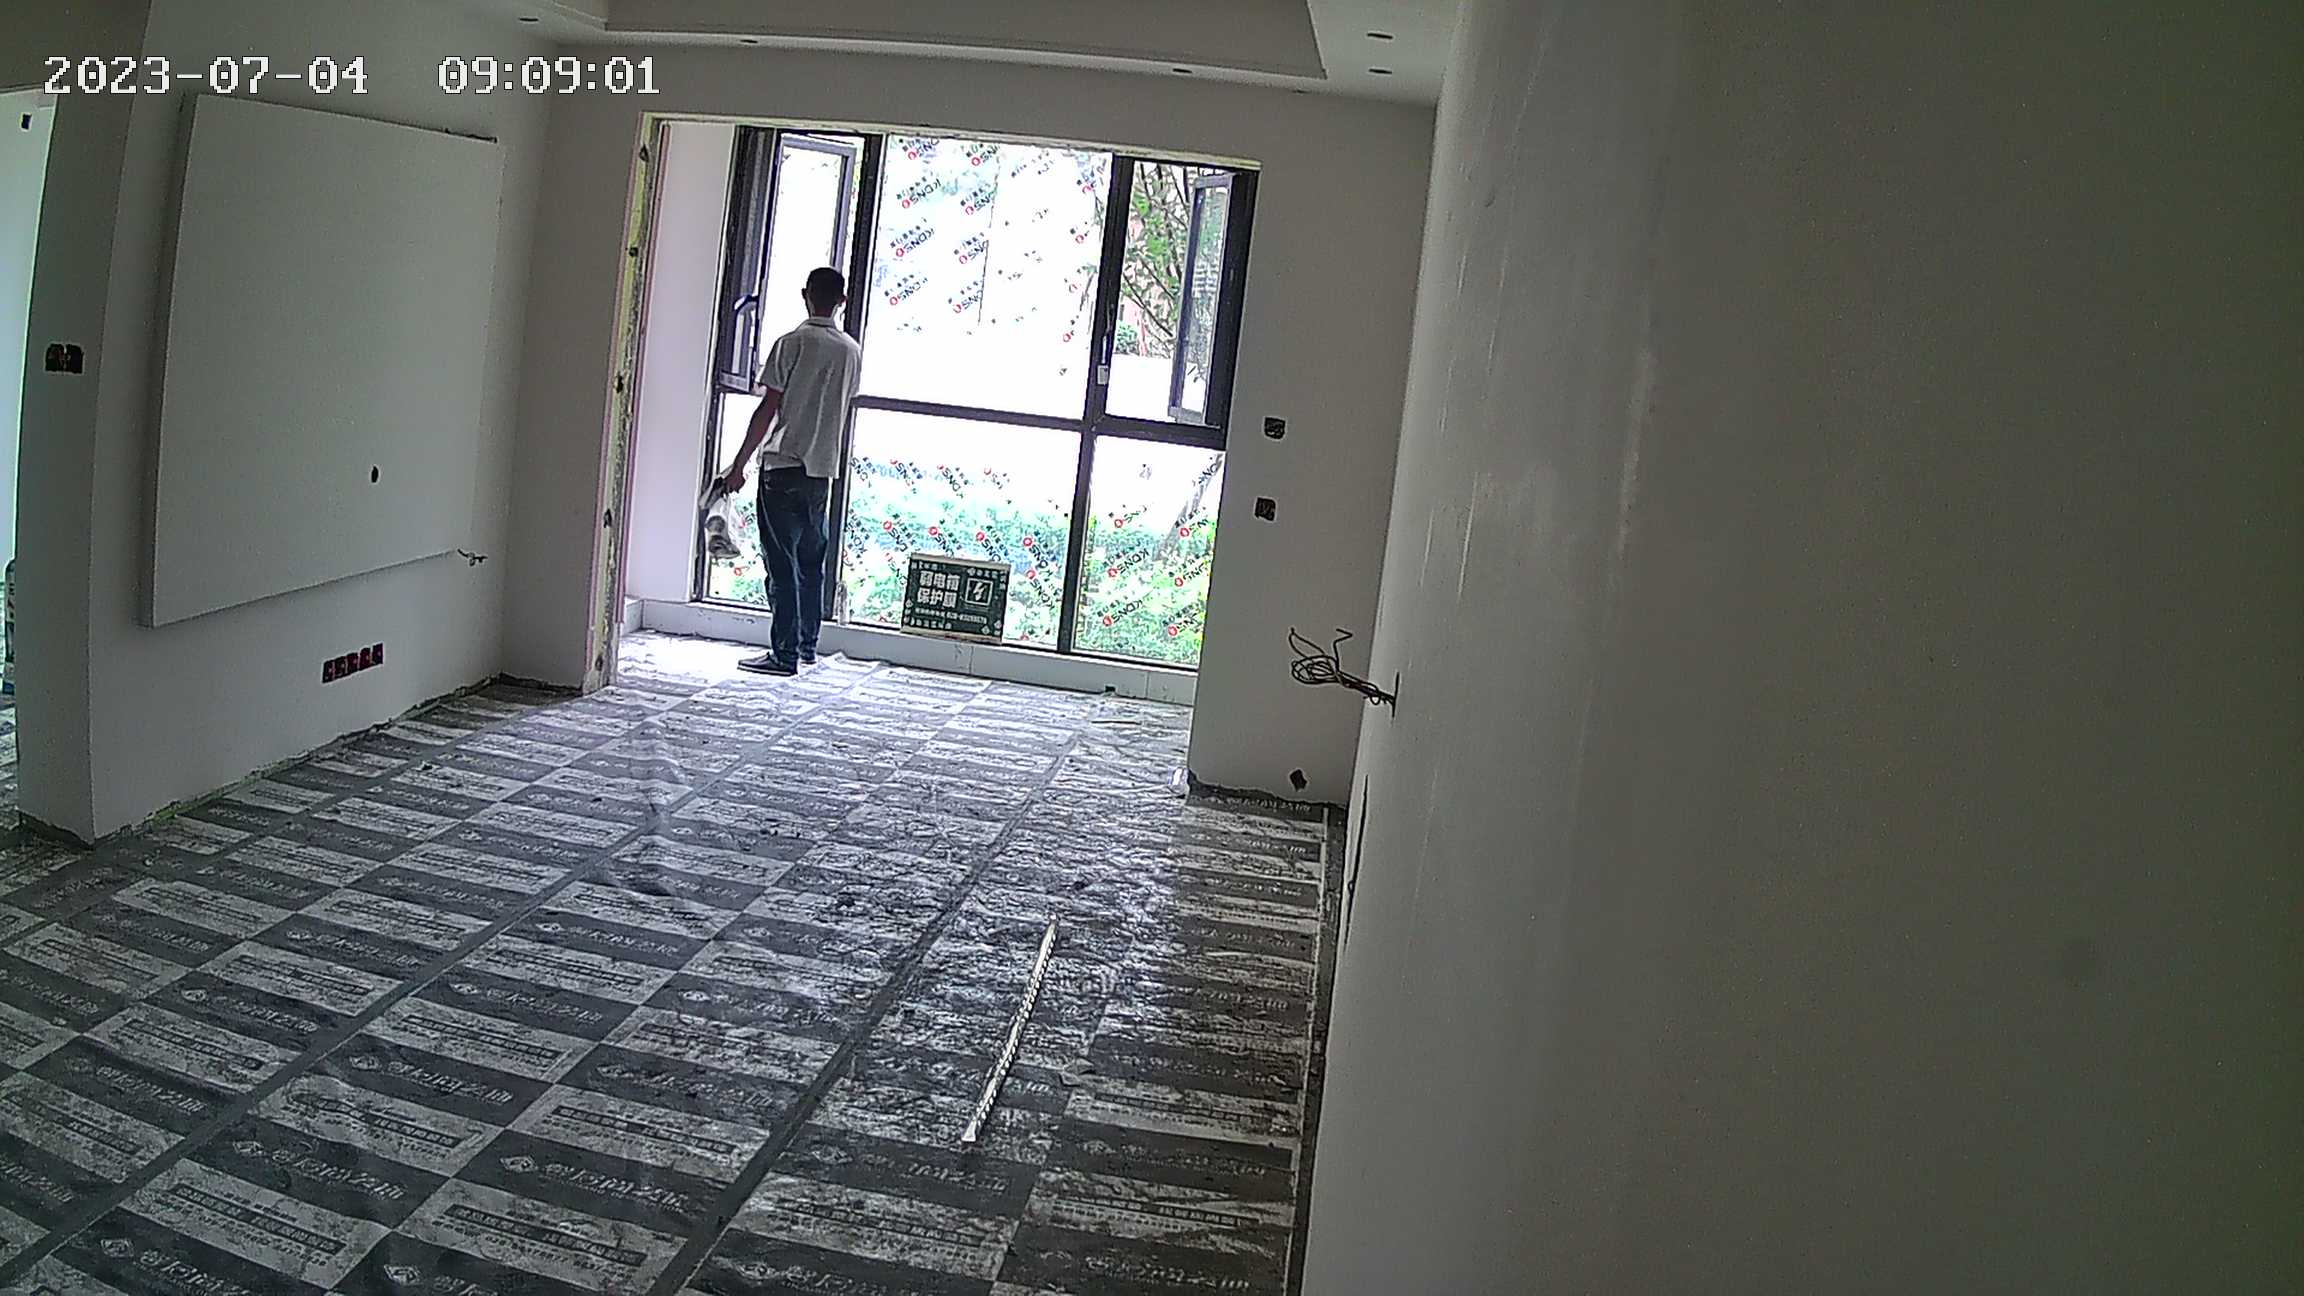people: (718, 264, 852, 681)
window: (727, 129, 1230, 674)
